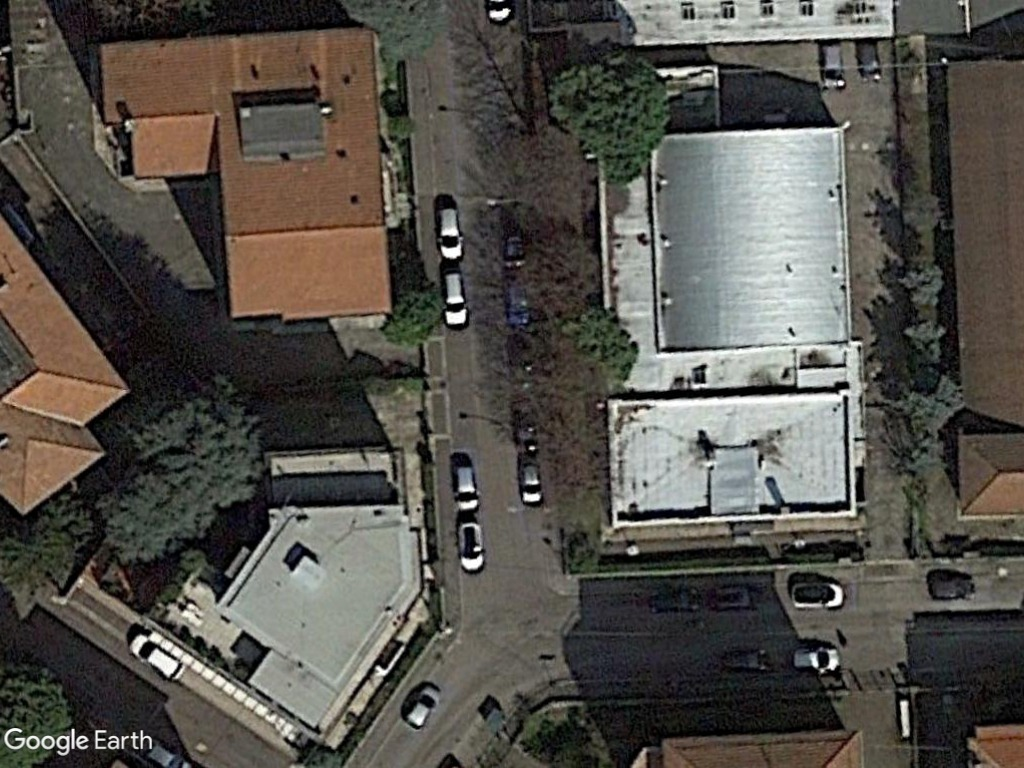car: (124, 630, 187, 683), (431, 202, 466, 265), (785, 579, 851, 612), (453, 518, 488, 576), (789, 642, 846, 677), (513, 449, 546, 509), (402, 684, 442, 731), (439, 266, 469, 327), (816, 40, 849, 95), (450, 461, 483, 516)
